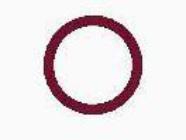RadioButton: (1, 1, 185, 139)
